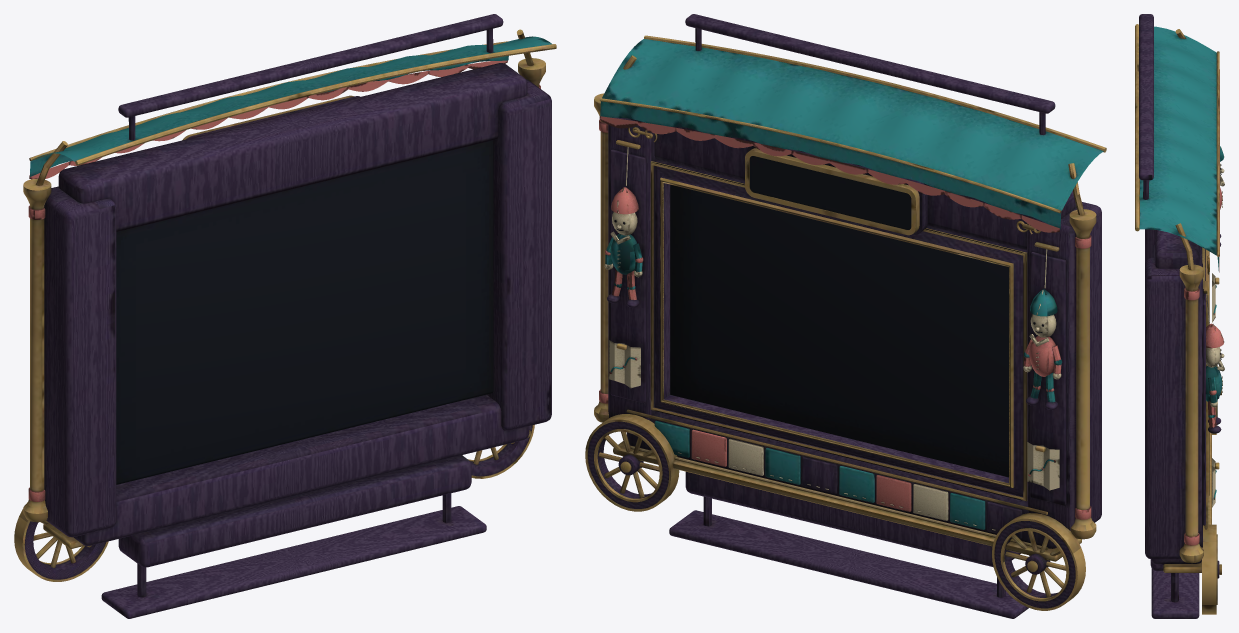
3 views of the same model, side by side, from view 1: azimuth 30°, elevation 25°; view 2: azimuth 150°, elevation 25°; view 3: azimuth 270°, elevation 25° (orthographic). The views are drawn at different scales.
Visible parts, largest first — view 1: Violet_wagon_timber, Flat_dark_inset, Aged_brass_fittings, Teal_woven_cloth, Coral_woven_cloth; view 2: Violet_wagon_timber, Flat_dark_inset, Teal_woven_cloth, Aged_brass_fittings, Coral_woven_cloth, Ivory_linen_and_paper; view 3: Violet_wagon_timber, Teal_woven_cloth, Aged_brass_fittings, Coral_woven_cloth, Ivory_linen_and_paper.
Boxes of the visible parts, x1=… form: Violet_wagon_timber: x1=24, y1=14, x2=551, y2=618; Flat_dark_inset: x1=116, y1=140, x2=493, y2=484; Aged_brass_fittings: x1=14, y1=29, x2=556, y2=581; Teal_woven_cloth: x1=29, y1=36, x2=552, y2=176; Coral_woven_cloth: x1=28, y1=60, x2=540, y2=501; Violet_wagon_timber: x1=588, y1=14, x2=1101, y2=618; Flat_dark_inset: x1=614, y1=156, x2=1043, y2=477; Teal_woven_cloth: x1=600, y1=39, x2=1103, y2=529; Aged_brass_fittings: x1=585, y1=35, x2=1106, y2=610; Coral_woven_cloth: x1=599, y1=116, x2=1091, y2=519; Ivory_linen_and_paper: x1=604, y1=147, x2=1061, y2=530; Violet_wagon_timber: x1=1139, y1=14, x2=1221, y2=618; Teal_woven_cloth: x1=1139, y1=26, x2=1223, y2=498; Aged_brass_fittings: x1=1135, y1=24, x2=1221, y2=614; Coral_woven_cloth: x1=1184, y1=69, x2=1223, y2=545; Ivory_linen_and_paper: x1=1206, y1=147, x2=1224, y2=507.
Bounding box in the file's own units: 9.86 × 9.4 × 1.7.
Materials: 6 (6 with a texture image).
